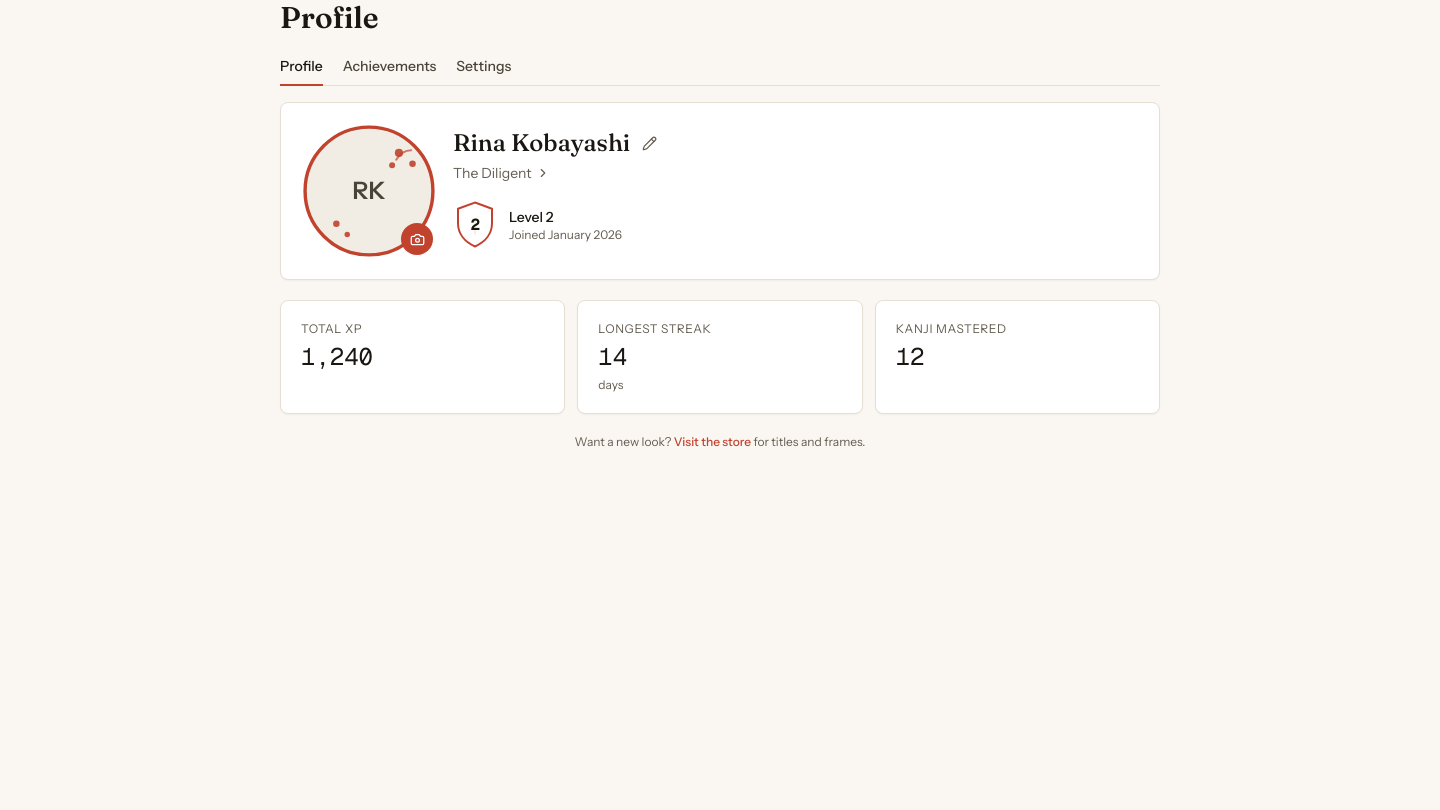
Test case: Profile (§7.8) › opens the title picker and equips an owned title
Click the button "The Diligent" at (501, 173), box [453,163,550,183]
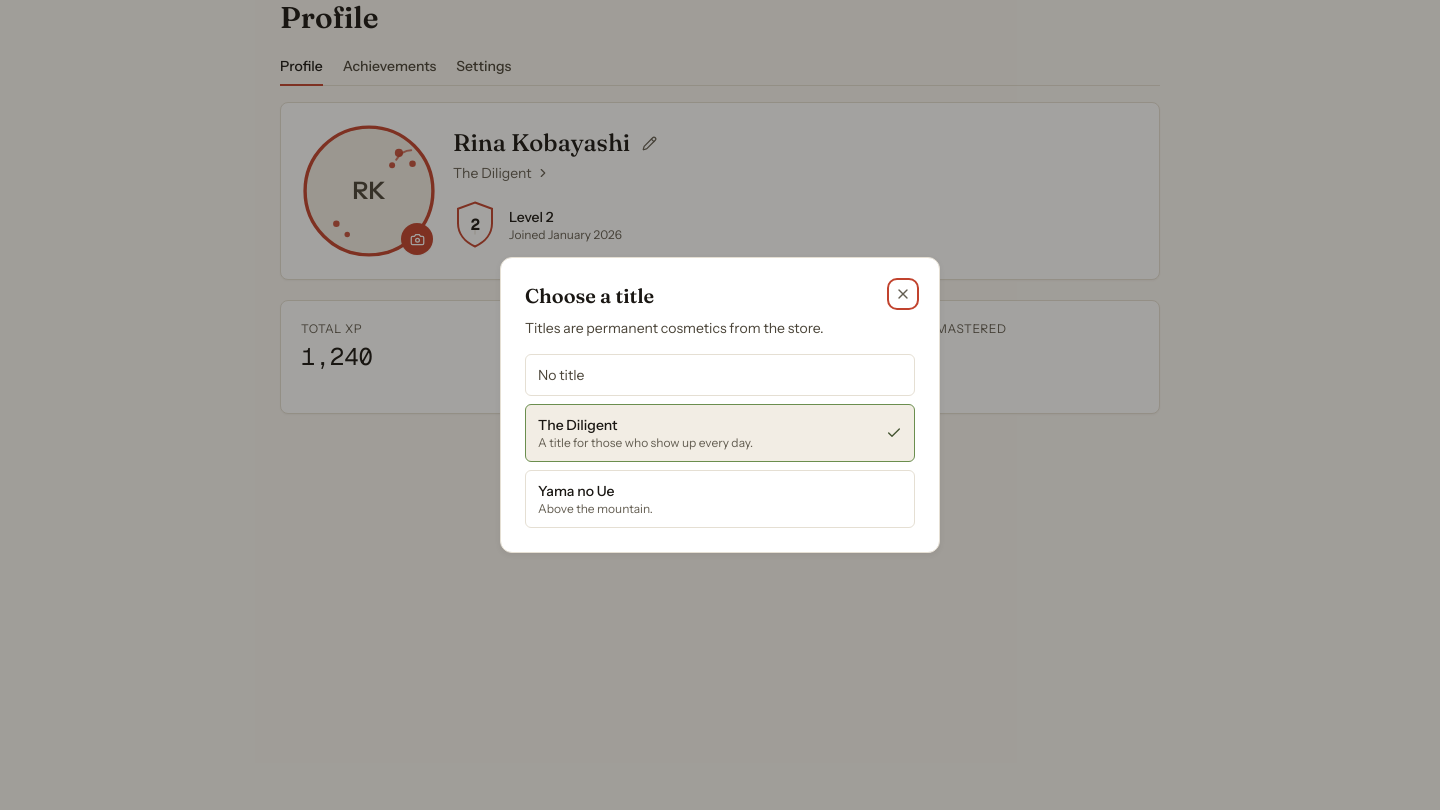
Click the button "Yama no Ue Above the mountain." at (576, 491), box [525,470,915,528]
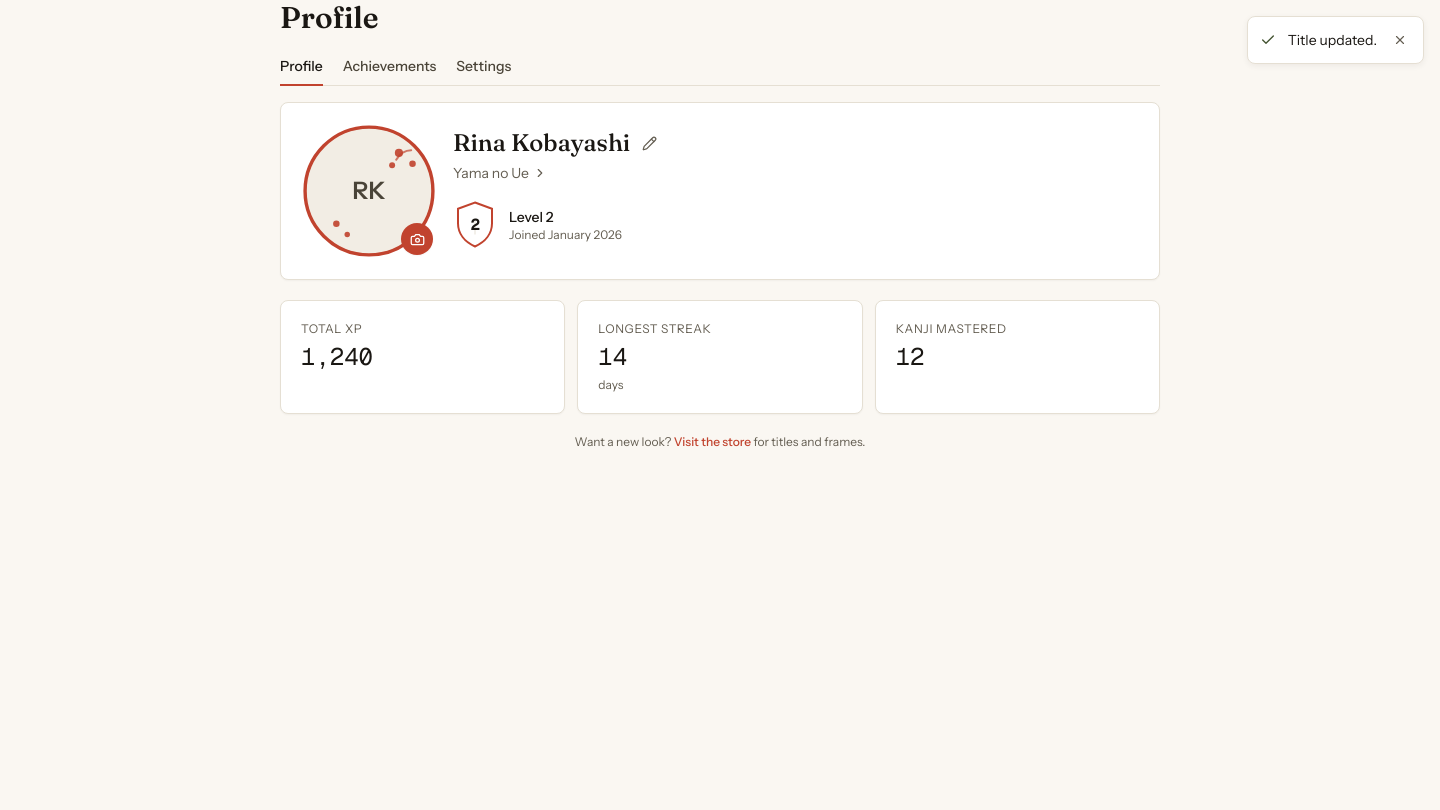
Now the text "Title updated." is shown, box [1288,30,1377,50]
